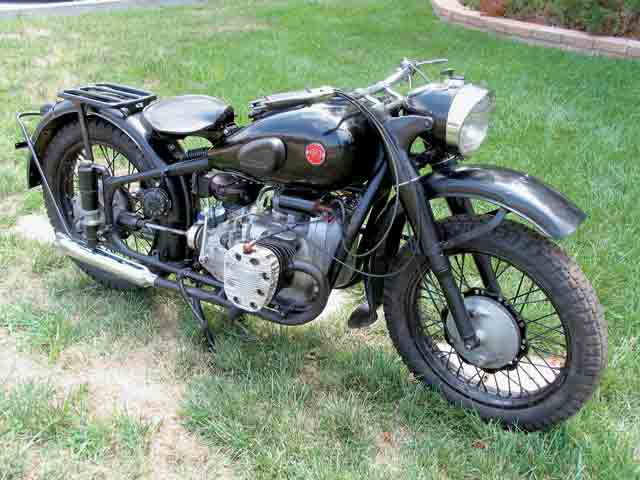bike: (14, 53, 610, 433)
